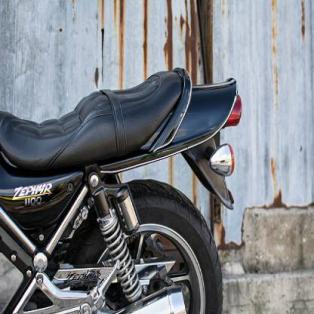Motocicleta: (0, 0, 245, 313)
